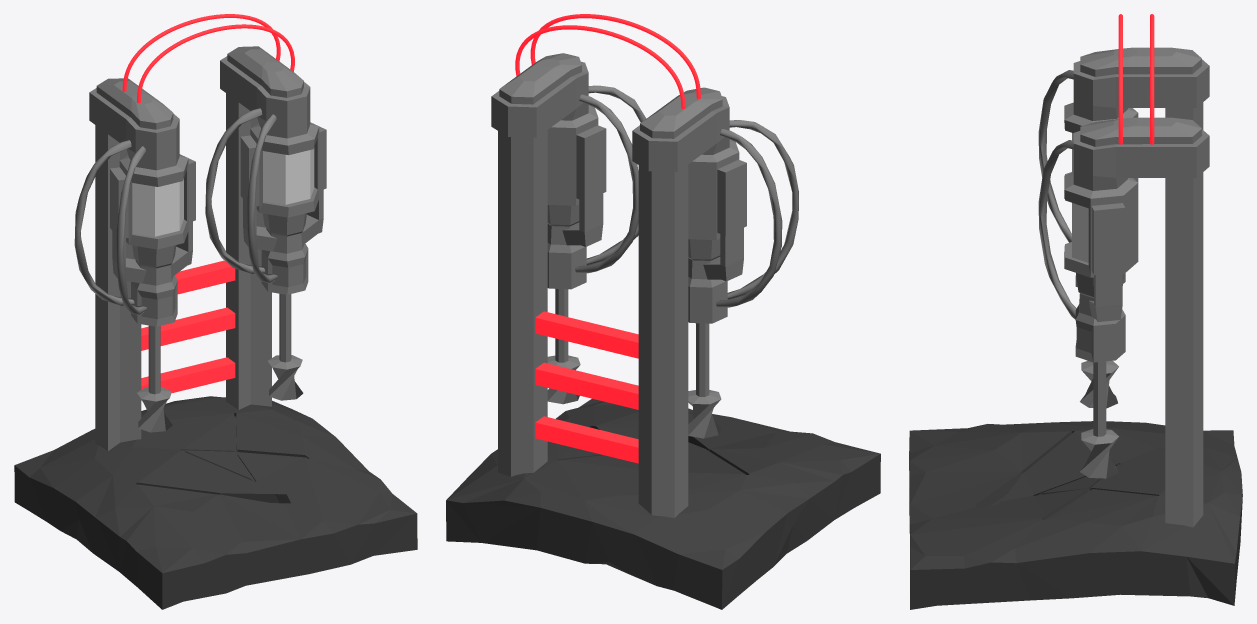
Rendered from StoneGenLevel9.fbx.
The picture shows the model from 3 angles, left to right: view 1: azimuth 30°, elevation 25°; view 2: azimuth 150°, elevation 25°; view 3: azimuth 270°, elevation 25°; orthographic projection. The views are drawn at different scales.
Visible parts, largest first — view 1: Cube.005, Cylinder, Cylinder.001, Cube, Cube.001, Cube.002, NurbsPath.001, NurbsPath; view 2: Cube.005, Cylinder, Cylinder.001, Cube.001, Cube.002, Cube, NurbsPath, NurbsPath.001; view 3: Cube.005, Cylinder.001, Cylinder, NurbsPath, NurbsPath.001.
Boxes of the visible parts, left/top/right/bottom form: Cube.005: left=14, top=396, right=417, bottom=609; Cylinder: left=74, top=78, right=195, bottom=450; Cylinder.001: left=205, top=46, right=326, bottom=409; Cube: left=141, top=307, right=235, bottom=350; Cube.001: left=141, top=357, right=235, bottom=400; Cube.002: left=175, top=260, right=235, bottom=294; NurbsPath.001: left=137, top=24, right=294, bottom=103; NurbsPath: left=122, top=14, right=280, bottom=91; Cube.005: left=446, top=398, right=880, bottom=609; Cylinder: left=632, top=87, right=798, bottom=517; Cylinder.001: left=491, top=53, right=646, bottom=476; Cube.001: left=535, top=416, right=638, bottom=463; Cube.002: left=535, top=311, right=638, bottom=358; Cube: left=535, top=362, right=638, bottom=409; NurbsPath: left=515, top=25, right=685, bottom=109; NurbsPath.001: left=530, top=14, right=700, bottom=98; Cube.005: left=909, top=421, right=1242, bottom=609; Cylinder.001: left=1038, top=117, right=1209, bottom=527; Cylinder: left=1038, top=47, right=1209, bottom=408; NurbsPath: left=1150, top=14, right=1154, bottom=144; NurbsPath.001: left=1118, top=14, right=1122, bottom=144.
Bounding box in the file's own units: 1.37 × 2.44 × 1.41.
